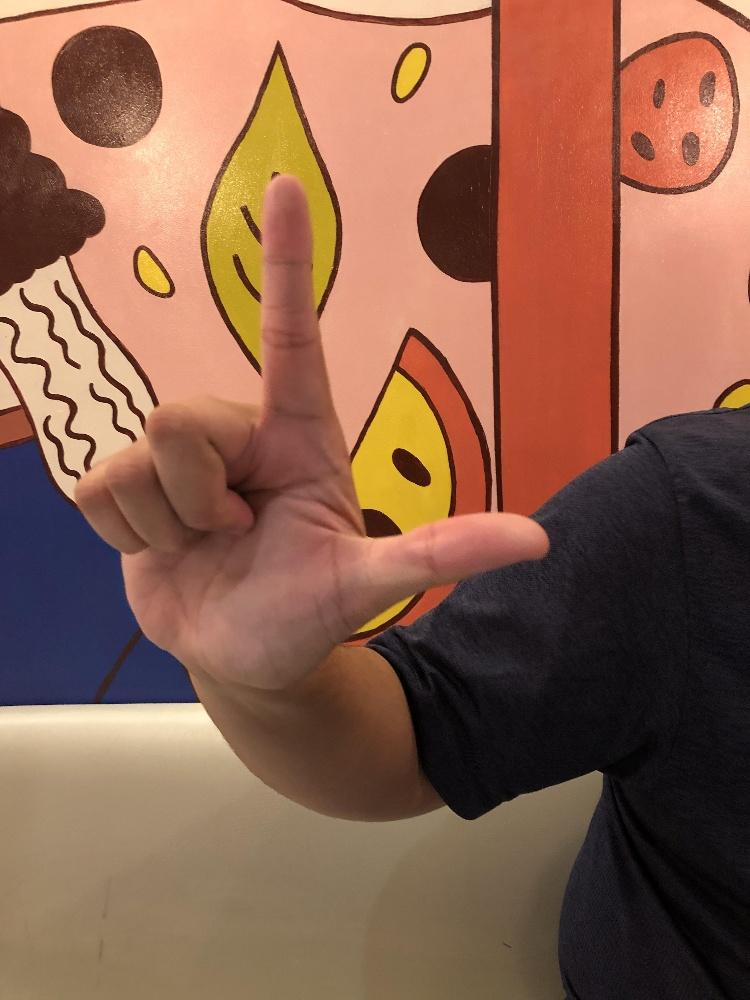l: (71, 171, 551, 691)
